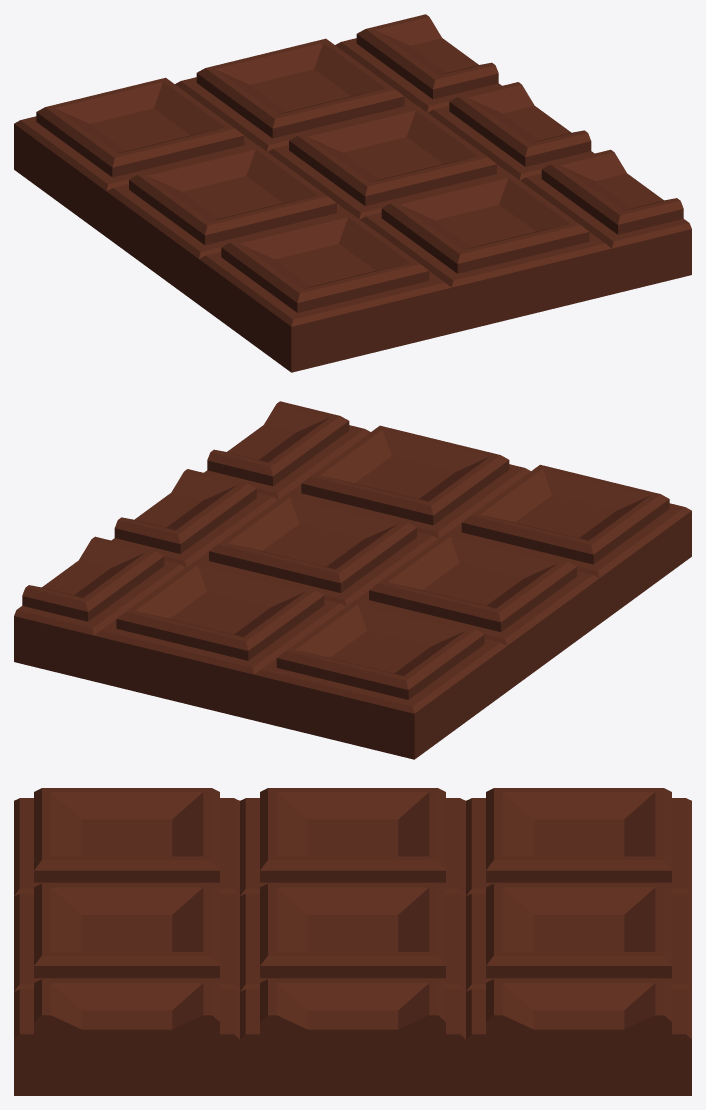
File: ChocolateLeft.fbx
The picture shows the model from 3 angles, top to bottom: view 1: azimuth 30°, elevation 25°; view 2: azimuth 150°, elevation 25°; view 3: azimuth 270°, elevation 25°; orthographic projection. The views are drawn at different scales.
Visible parts, largest first — view 1: Куб.002; view 2: Куб.002; view 3: Куб.002.
Boxes of the visible parts, x1,y1,x2,y2 form: Куб.002: [14, 14, 691, 372]; Куб.002: [14, 401, 691, 759]; Куб.002: [14, 788, 691, 1095].
Bounding box in the file's own units: 250 × 39.39 × 300.
